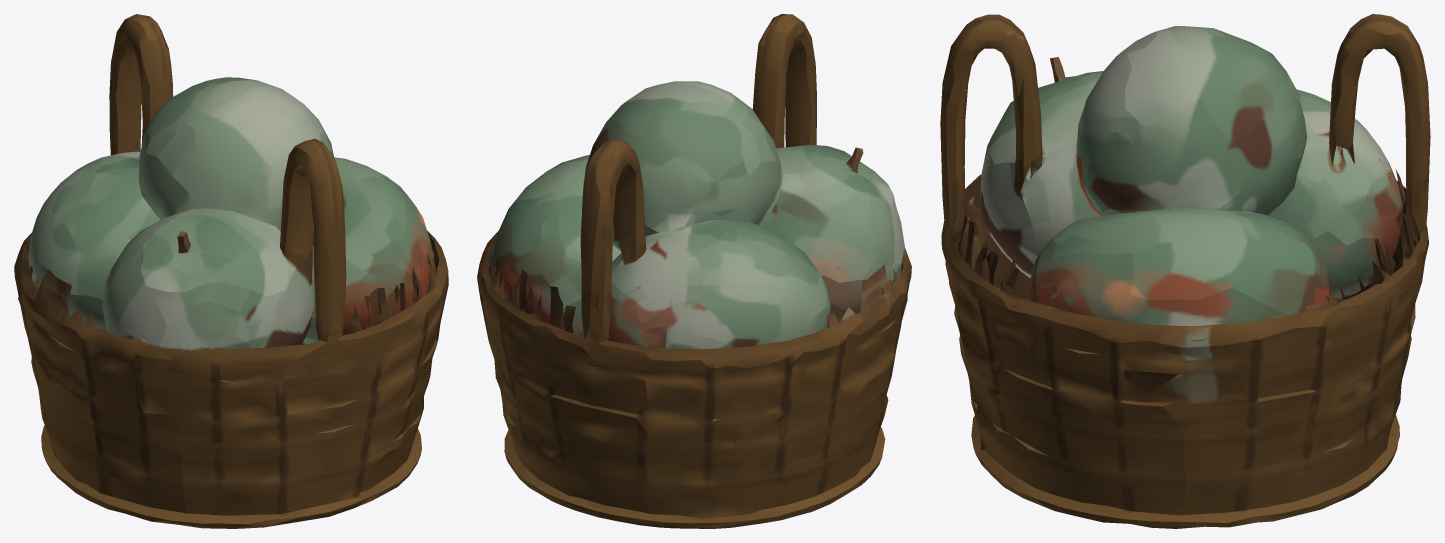
Rendered from ENV_09_WOOL.glb.
3 renders of one model, left to right at view 1: azimuth 30°, elevation 25°; view 2: azimuth 150°, elevation 25°; view 3: azimuth 270°, elevation 25°, orthographic. The views are drawn at different scales.
Visible parts, largest first — view 1: world; view 2: world; view 3: world.
Boxes of the visible parts, x1=… form: world: x1=14, y1=14, x2=448, y2=528; world: x1=477, y1=14, x2=911, y2=528; world: x1=940, y1=14, x2=1430, y2=528.
Bounding box in the file's own units: 0.9982 × 0.9693 × 1.
1 material, 1 textured.
